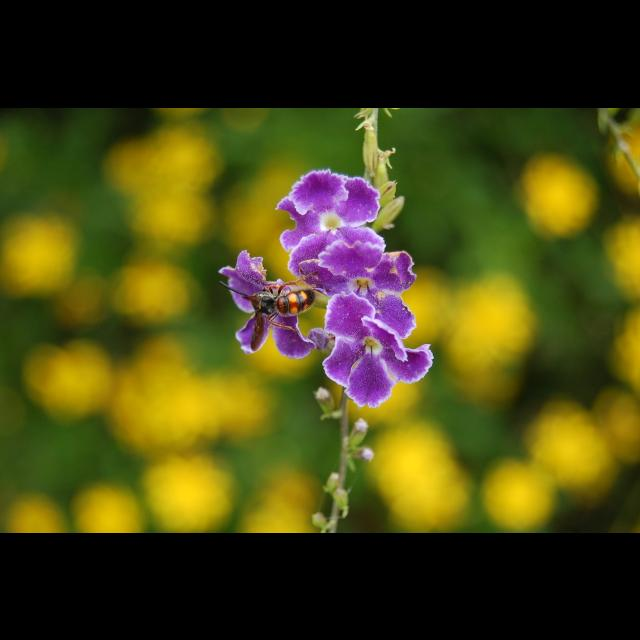Flower: (220, 170, 434, 408)
